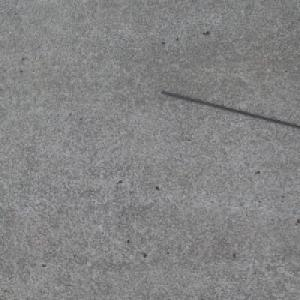LuggagePart: (156, 90, 300, 130)
